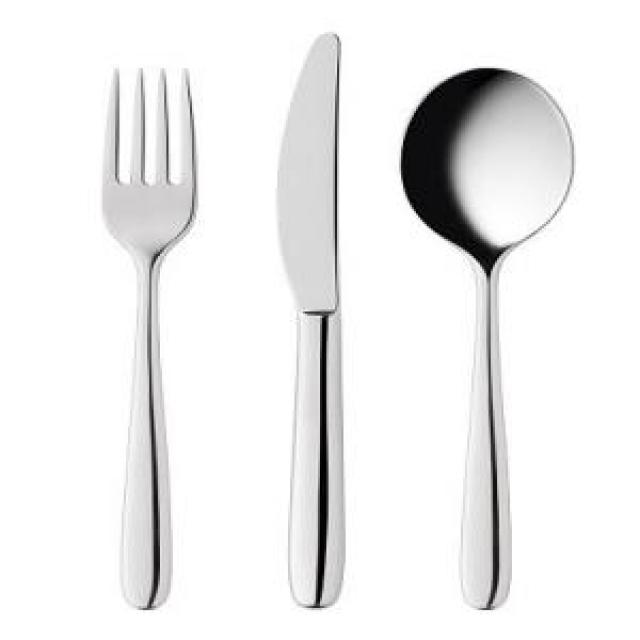knife: (280, 21, 355, 612)
